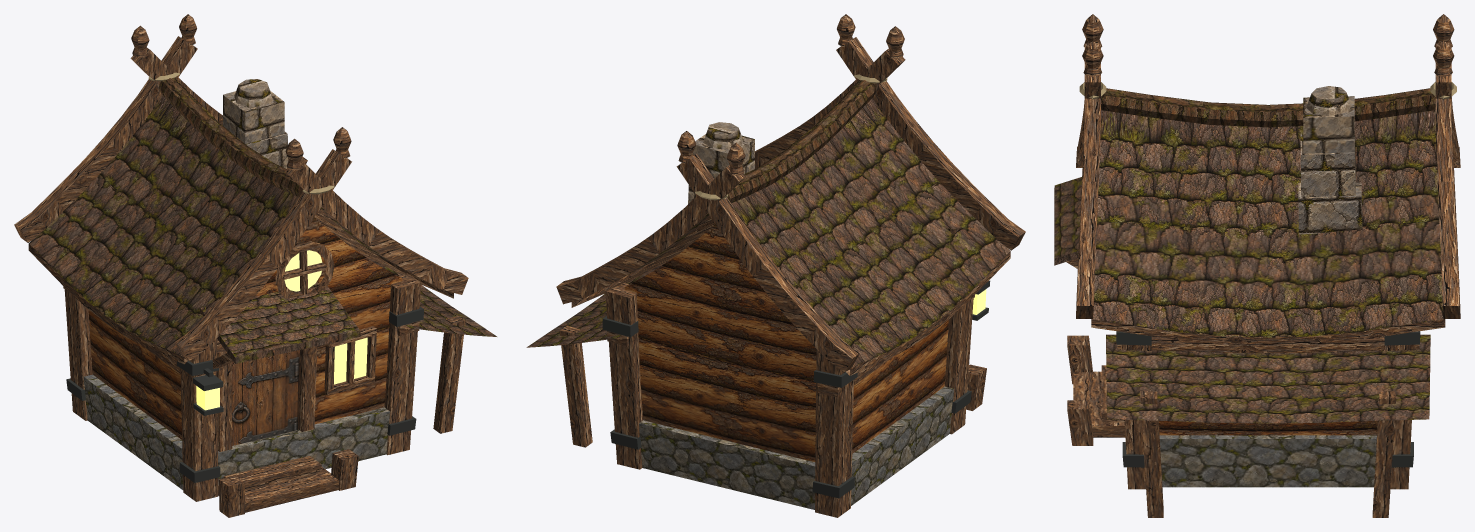
File: house-forest-trail-03.glb
The picture shows the model from 3 angles, left to right: view 1: azimuth 30°, elevation 25°; view 2: azimuth 150°, elevation 25°; view 3: azimuth 270°, elevation 25°; orthographic projection. The views are drawn at different scales.
Parts seen in each view (by area): view 1: roof_-1, plinth, gable_-1, porch_roof, barge_-1_-1, side_-1, door, barge_1_-1, post_1_-1, barge_-1_1, ridge, post_-1_-1 (+22 smaller); view 2: roof_-1, gable_1, plinth, barge_1_-1, side_-1, barge_-1_-1, post_-1_1, barge_1_1, post_1_1, ridge, post_-1_-1, shed_post_0.85 (+9 smaller); view 3: roof_1, shed_roof, plinth, chimney, ridge, barge_1_1, barge_-1_1, roof_edge_1, side_1, plate_1, porch_roof, shed_post_-0.85 (+15 smaller).
Boxes of the visible parts, x1,y1,x2,y2 form: roof_-1: (29,96,298,356); plinth: (83,374,389,489); gable_-1: (255,217,402,424); porch_roof: (200,282,360,363); barge_-1_-1: (175,149,351,361); side_-1: (88,310,181,439); door: (232,350,299,445); barge_1_-1: (14,36,197,242); post_1_-1: (384,273,420,455); barge_-1_1: (285,160,468,294); ridge: (158,78,303,197); post_-1_-1: (180,338,218,501); roof_-1: (731,98,1010,367); gable_1: (624,224,816,461); plinth: (639,386,954,509); barge_1_-1: (676,153,859,372); side_-1: (852,319,948,453); barge_-1_-1: (836,37,1025,250); post_-1_1: (815,349,853,517); barge_1_1: (556,165,745,304); post_1_1: (605,282,642,469); ridge: (727,80,876,203); post_-1_-1: (944,297,973,434); shed_post_0.85: (559,326,592,447); roof_1: (1091,110,1444,337); shed_roof: (1106,334,1430,423); plinth: (1159,435,1376,487); chimney: (1298,96,1362,234); ridge: (1101,88,1435,127); barge_1_1: (1435,43,1460,318); barge_-1_1: (1076,43,1100,318); roof_edge_1: (1091,319,1445,345); side_1: (1159,421,1377,435); plate_1: (1117,336,1419,353); porch_roof: (1054,177,1081,265); shed_post_-0.85: (1140,391,1163,517).
Size of the model in its own units: 3.27 by 3.36 by 3.07.
11 materials, 8 textured.
